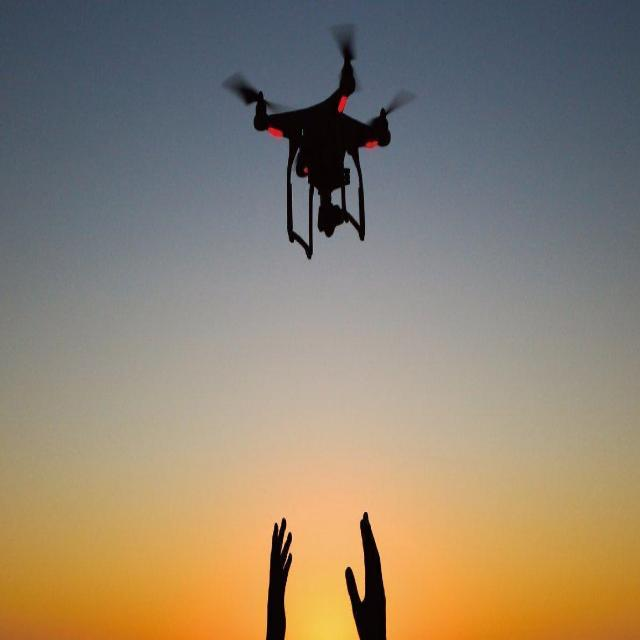UAV: (252, 52, 392, 260)
